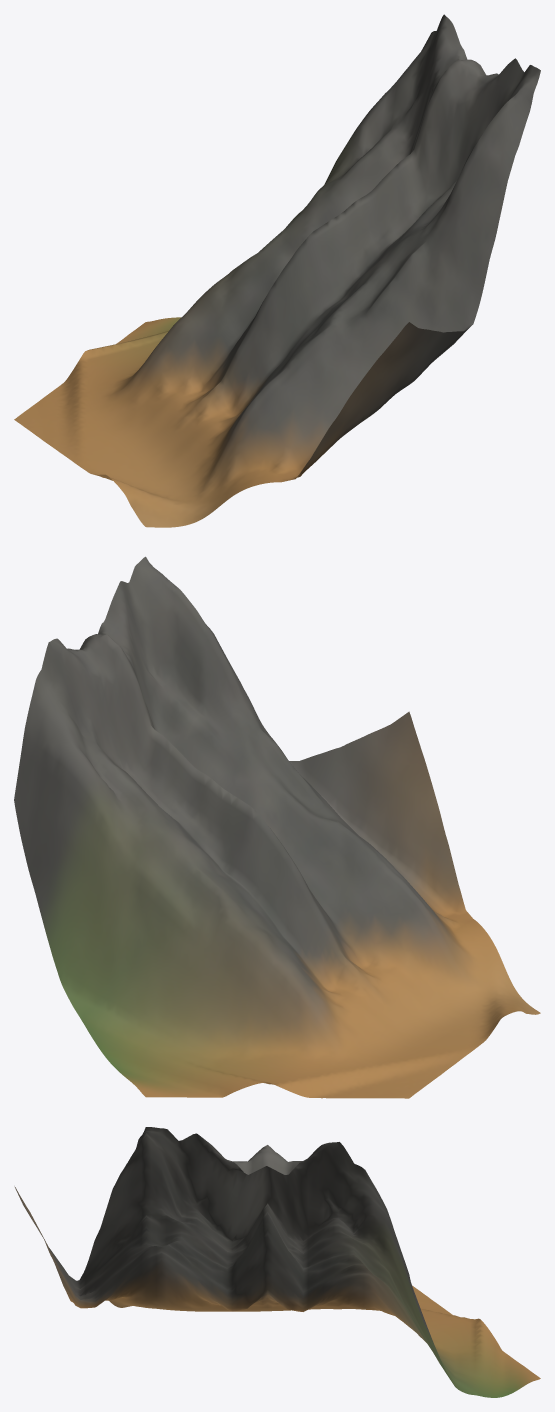
The model's file is Serra_2_-2.glb.
The picture shows the model from 3 angles, top to bottom: view 1: azimuth 30°, elevation 25°; view 2: azimuth 150°, elevation 25°; view 3: azimuth 270°, elevation 25°; orthographic projection.
Visible parts, largest first — view 1: terrain; view 2: terrain; view 3: terrain.
Part boxes in pixels (x1,y1,x2,y2): terrain: [14, 14, 540, 527]; terrain: [14, 556, 540, 1098]; terrain: [14, 1127, 540, 1397].
Bounding box in the file's own units: 4330 × 3777 × 5000.
